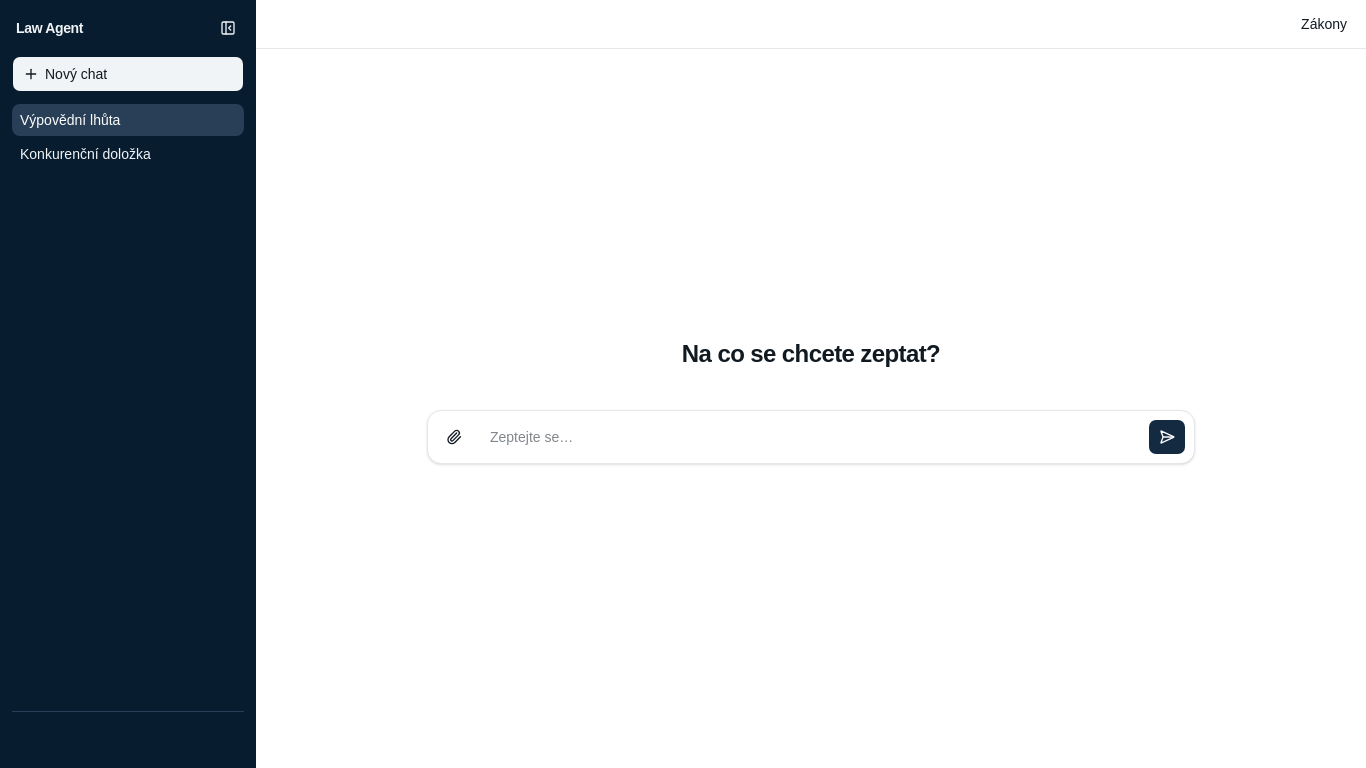
Test: an existing thread › refetches its history after a turn, so leaving and returning keeps the answer
Type "A co odstupné?" into the text box with placeholder "Zeptejte se…" at [810, 436], box [480,418,1140,454]
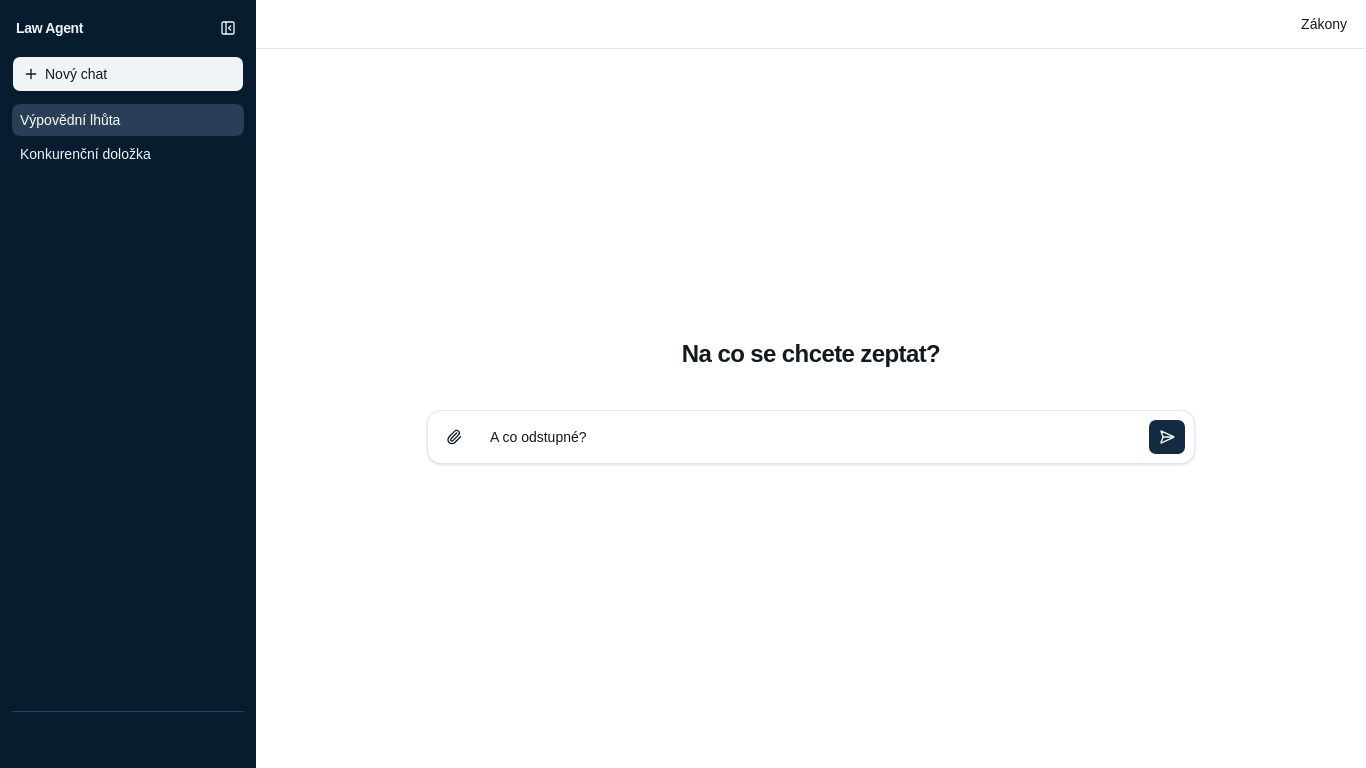
Press Enter
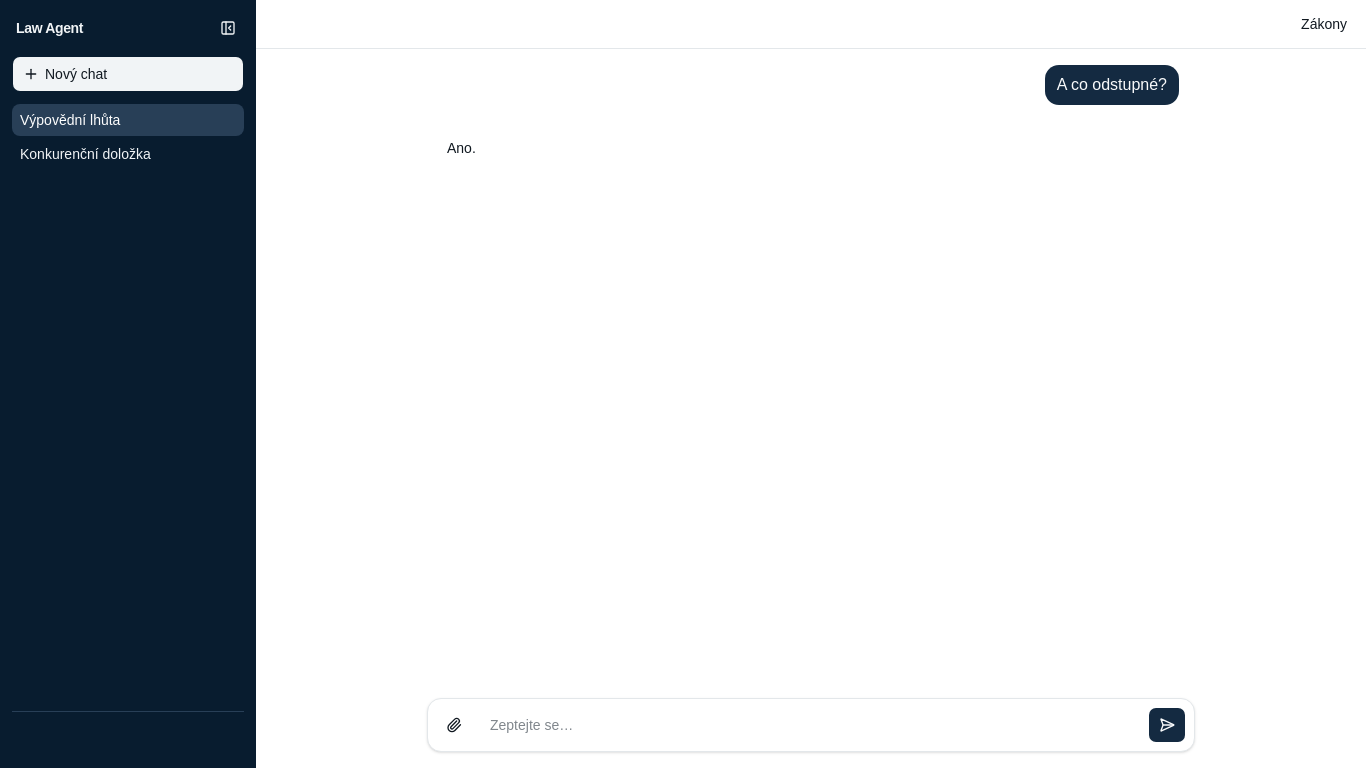
Result: the text "Ano." is shown at [447,140,476,156]
Click the link "Konkurenční doložka" at [85, 154], box [20,146,151,162]
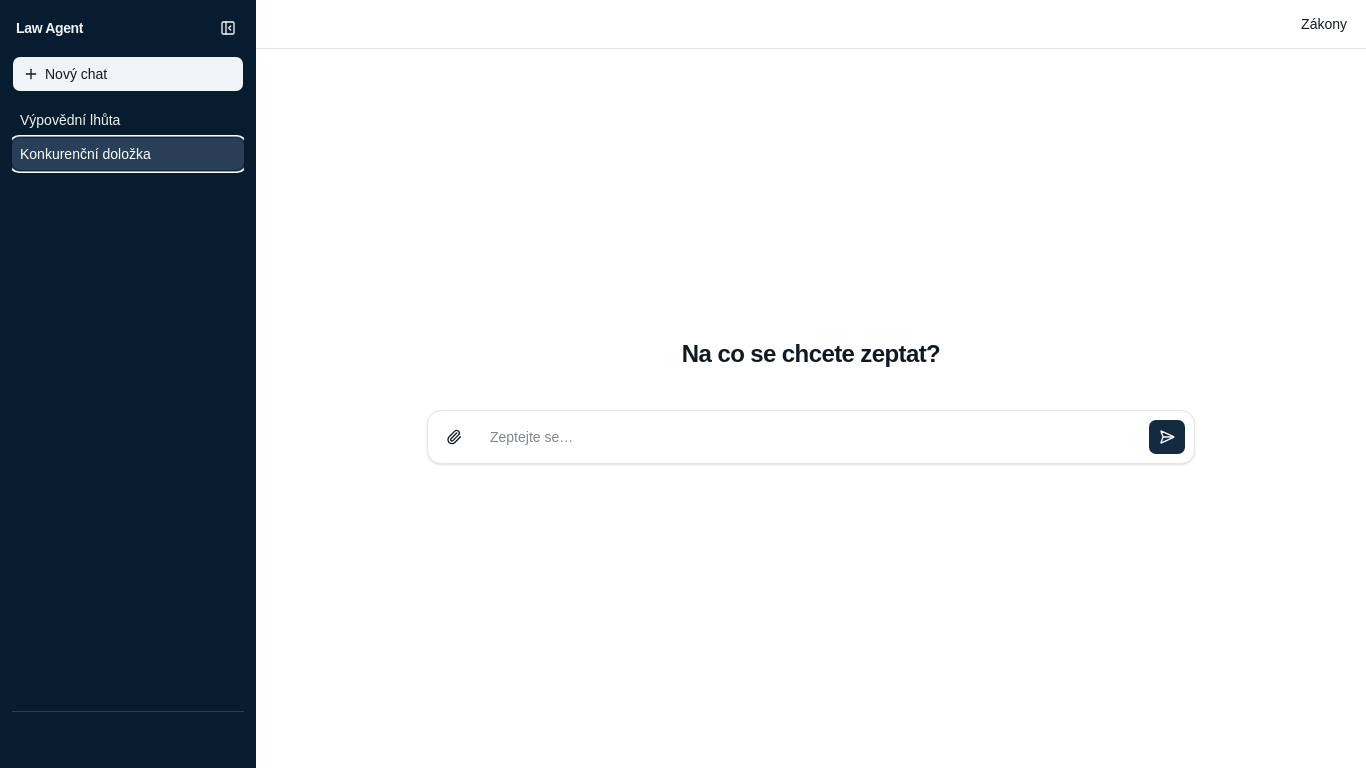
Result: the text "Ano." is gone
Click the link "Výpovědní lhůta" at [70, 120], box [20,112,120,128]
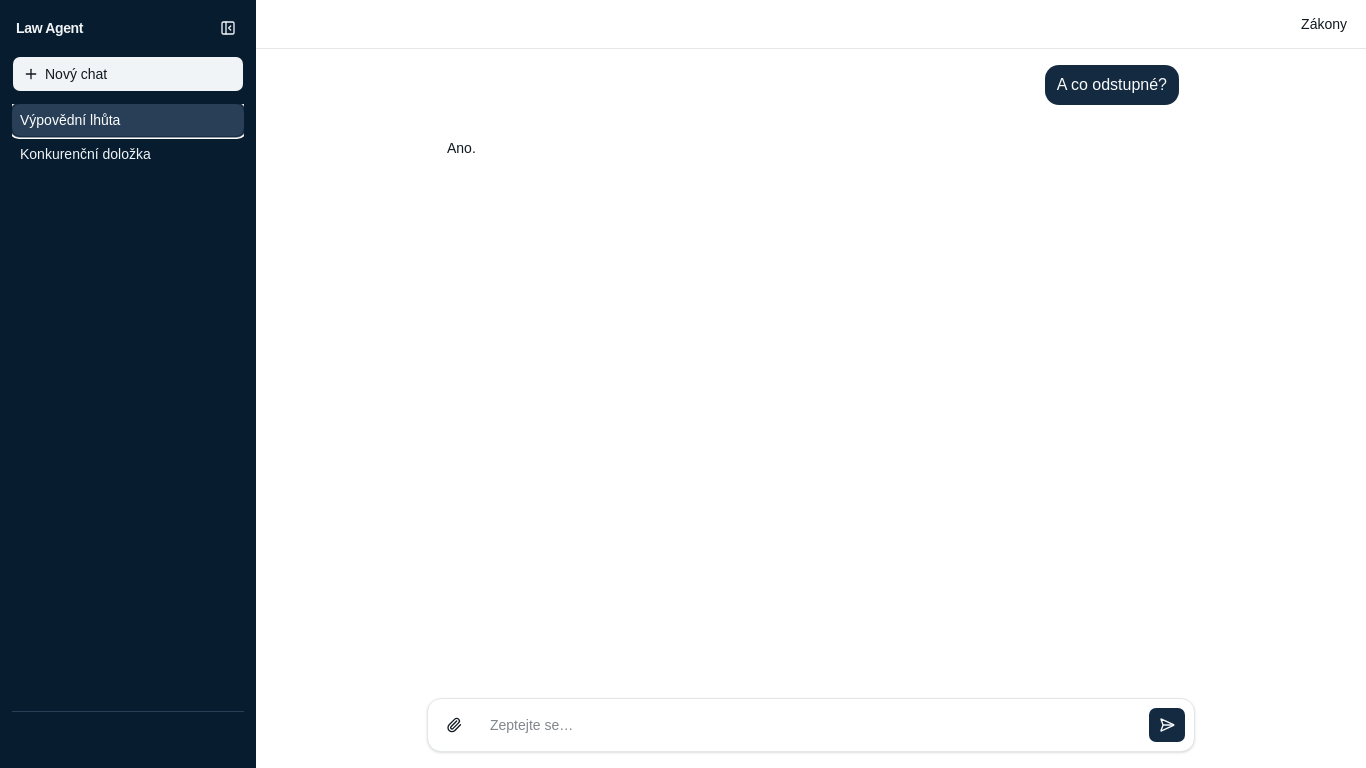
Result: the text "A co odstupné?" is shown at [1045,65,1179,105]
Result: the text "Ano." is shown at [447,140,476,156]
